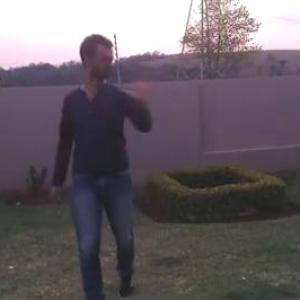follow_hand: (122, 65, 164, 104)
